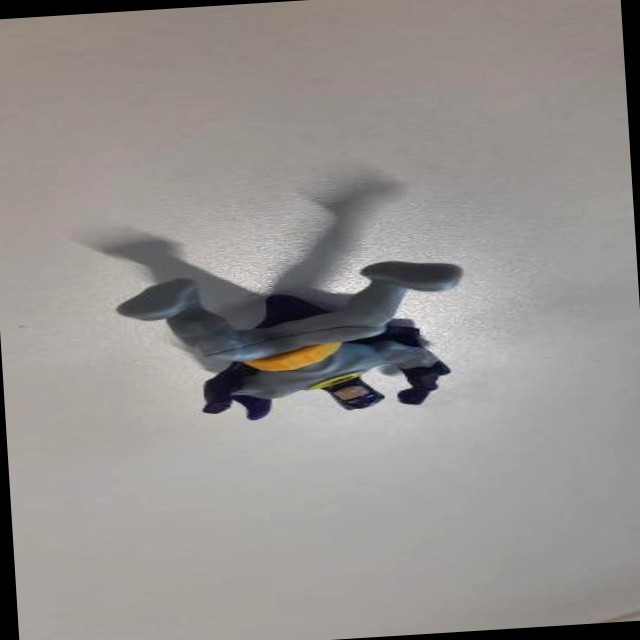Batman: (104, 247, 481, 442)
